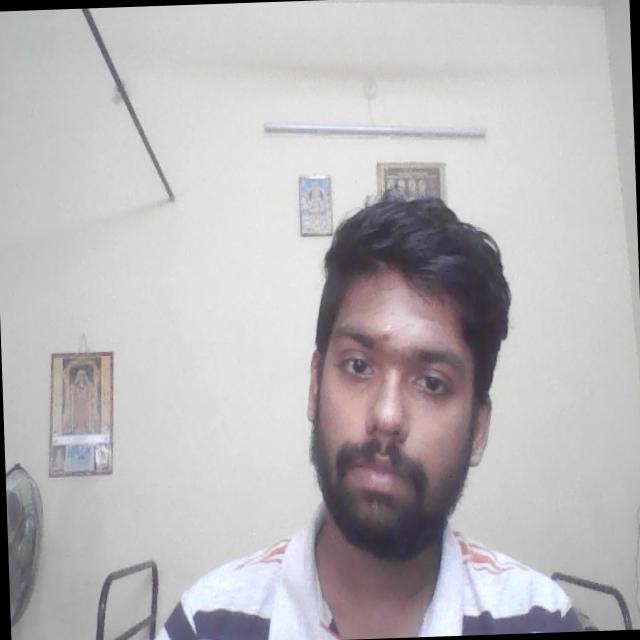Focused: (296, 272, 484, 524)
